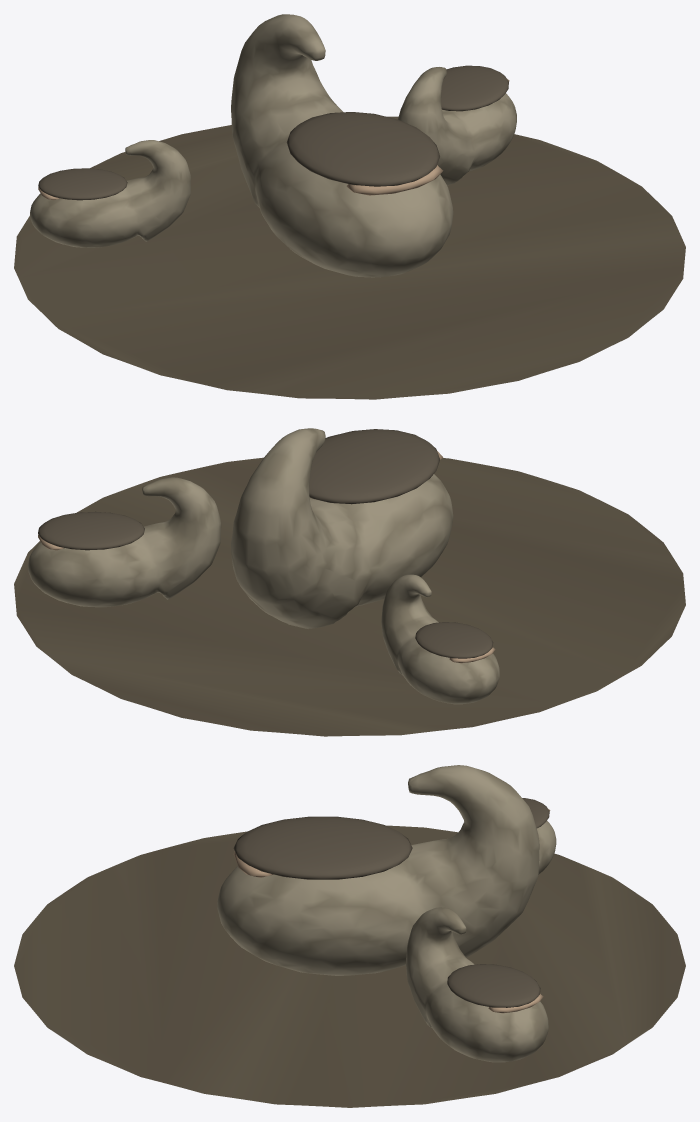
File: Gryphaea.fbx
3 renders of one model, top to bottom at view 1: azimuth 30°, elevation 25°; view 2: azimuth 150°, elevation 25°; view 3: azimuth 270°, elevation 25°, orthographic.
Parts seen in each view (by area): view 1: Gryphaea; view 2: Gryphaea; view 3: Gryphaea.
Boxes of the visible parts, box(x1,y1,x2,y2) form: Gryphaea: box(14, 14, 685, 399); Gryphaea: box(14, 428, 685, 736); Gryphaea: box(14, 765, 685, 1107).
Size of the model in its own units: 1.5 by 0.4898 by 1.5.
